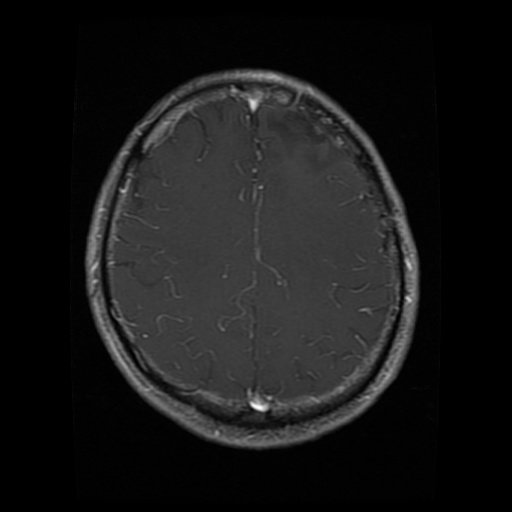glioma: (265, 107, 347, 170)
